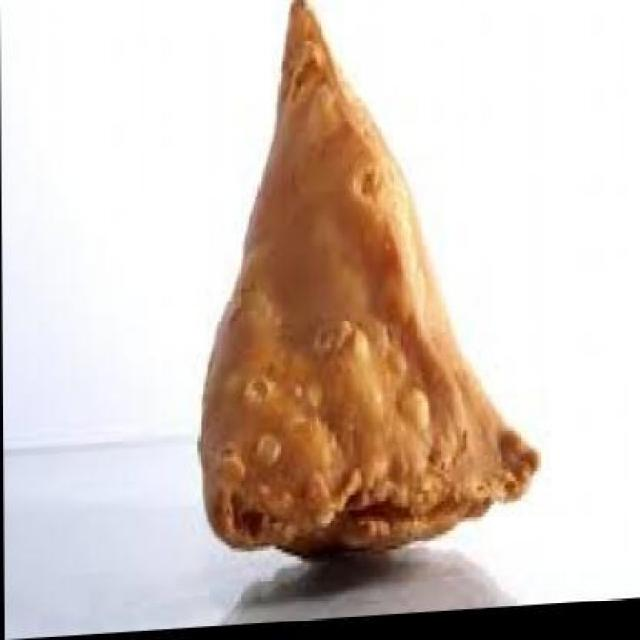samosa: (195, 0, 540, 571)
